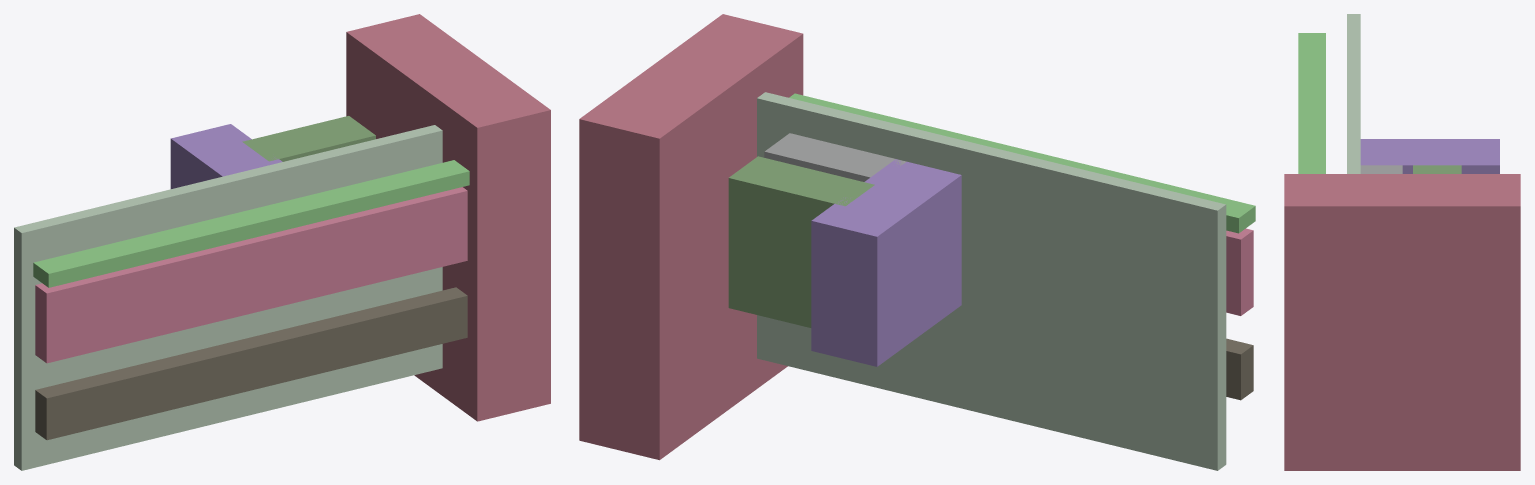
File: 199511_pred.glb
The picture shows the model from 3 angles, left to right: view 1: azimuth 30°, elevation 25°; view 2: azimuth 150°, elevation 25°; view 3: azimuth 270°, elevation 25°; orthographic projection. The views are drawn at different scales.
Visible parts, largest first — view 1: world; view 2: world; view 3: world.
Part boxes in pixels (bbox=[...]): world: bbox=[14, 14, 550, 470]; world: bbox=[579, 14, 1255, 470]; world: bbox=[1284, 14, 1520, 470].
Bounding box in the file's own units: 7.4 × 4.2 × 3.4.
